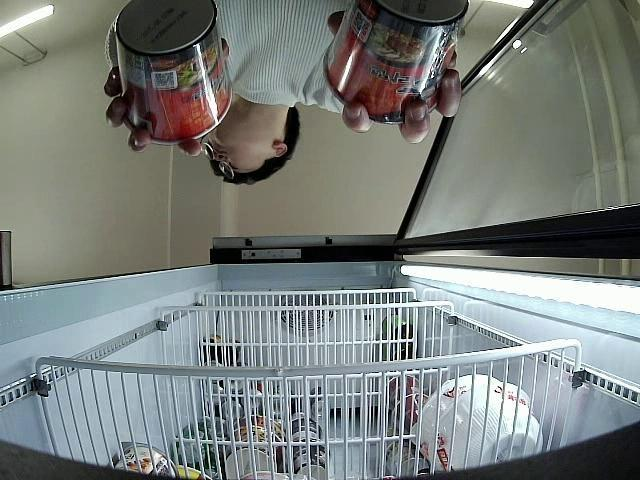02_shinRamen_S: (322, 0, 470, 126), (114, 0, 233, 142)
